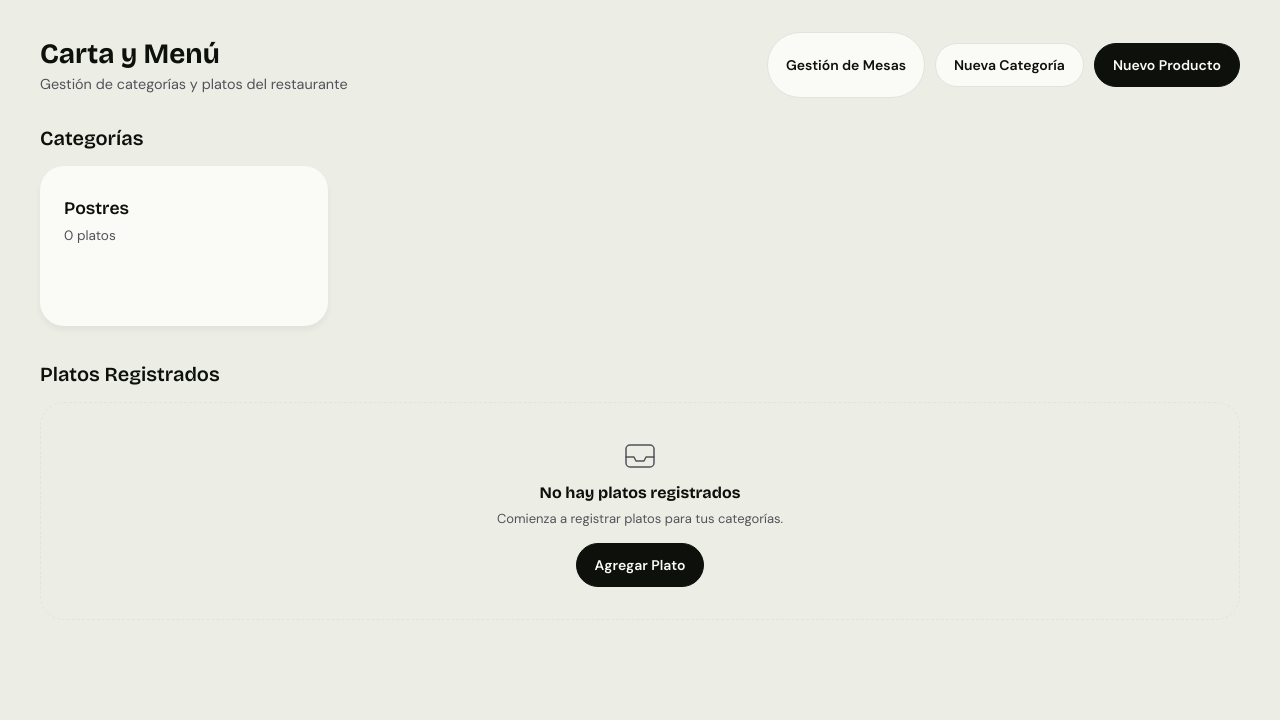
it: Bloque 3: Menu Admin Real (Tests Rojo) › Creación fallida de producto: NO muestra éxito ("Nuevo Producto Creado") y muestra error en role="alert"
Expected: the heading "Postres" is shown, [64, 198, 129, 219]
Click the button "Nuevo Producto": (1167, 65) [1094, 43, 1240, 87]
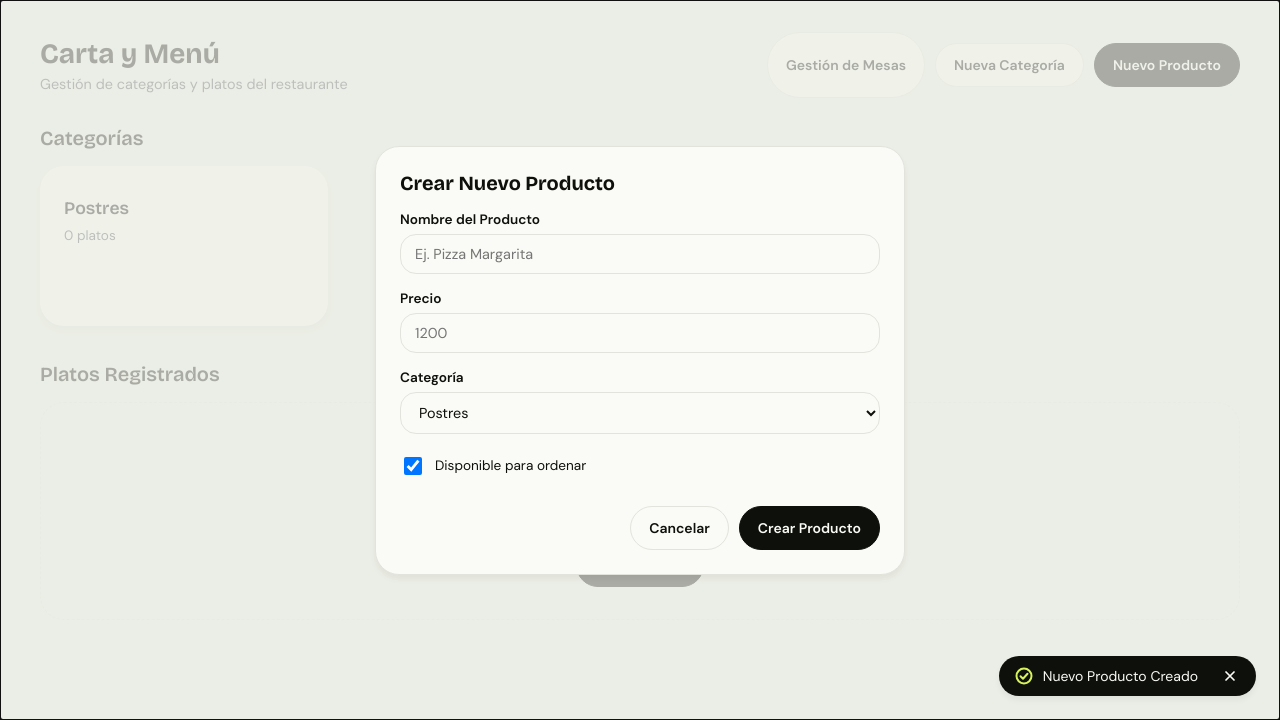
In the field labelled "Nombre del Producto": (640, 254) [400, 234, 880, 274], type "Tiramisú"
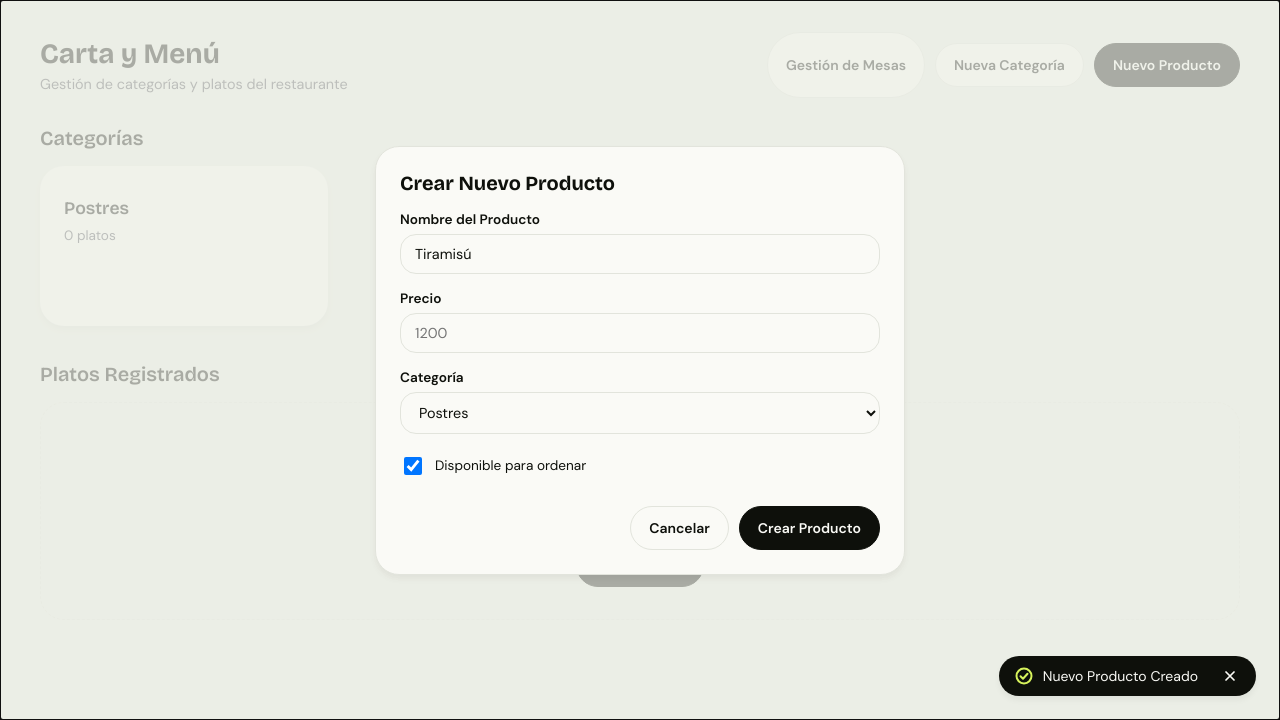
In the number field labelled "Precio": (640, 332) [400, 312, 880, 352], type "450"
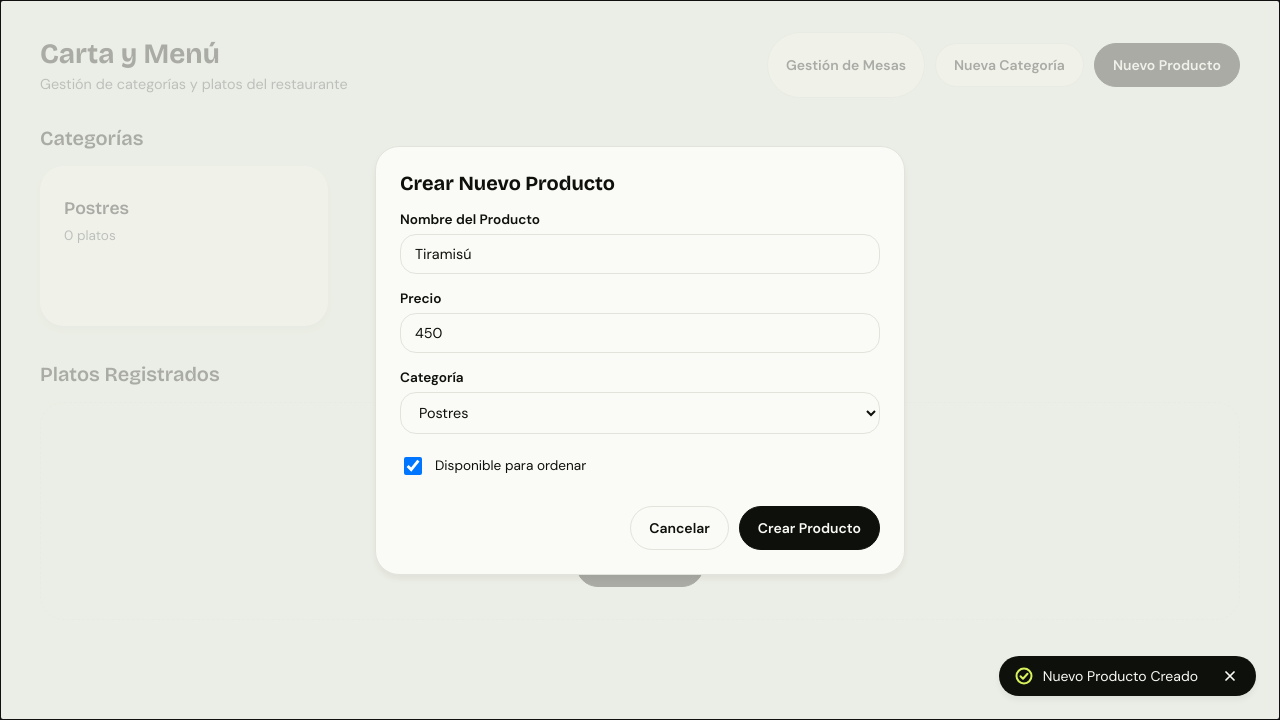
Click the button "Crear Producto": (809, 528) [739, 506, 880, 550]
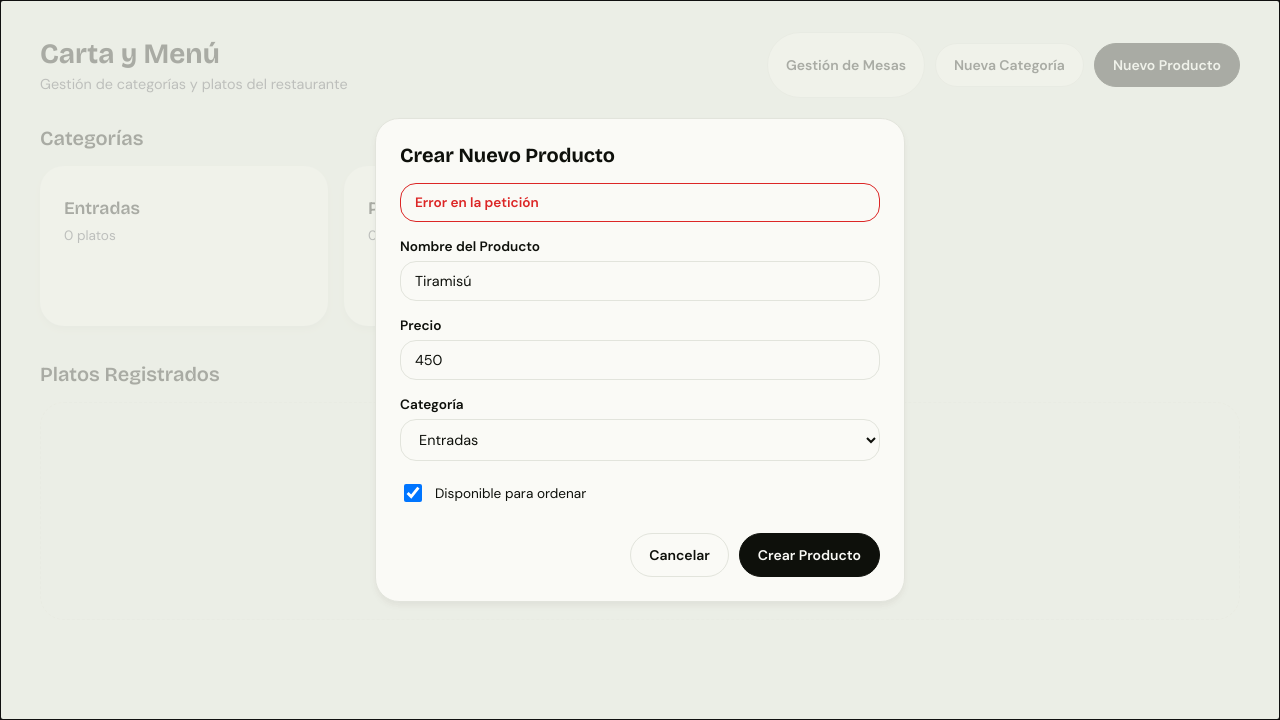
Now the message "Error en la petición" is shown, box [400, 183, 880, 222]
Now the text "Nuevo Producto Creado" is gone
